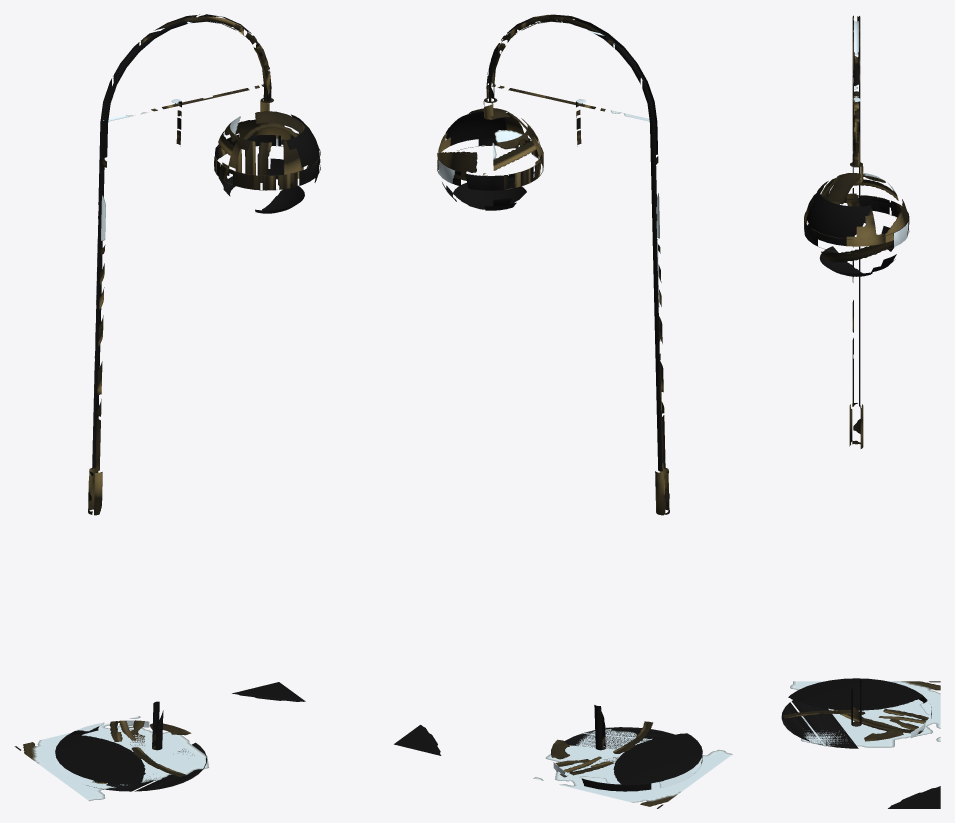
The model's file is raw_model.obj.
3 views of the same model, side by side, from view 1: azimuth 30°, elevation 25°; view 2: azimuth 150°, elevation 25°; view 3: azimuth 270°, elevation 25° (orthographic).
Visible parts, largest first — view 1: solid_001, solid_002, shadow, solid_003; view 2: solid_001, solid_002, shadow, solid_003; view 3: solid_001, solid_002, shadow, solid_003.
Boxes of the visible parts, x1=… form: solid_001: x1=88, y1=14, x2=320, y2=750; solid_002: x1=55, y1=720, x2=206, y2=791; shadow: x1=14, y1=682, x2=305, y2=801; solid_003: x1=218, y1=139, x2=319, y2=213; solid_001: x1=437, y1=14, x2=669, y2=750; solid_002: x1=551, y1=721, x2=702, y2=791; shadow: x1=394, y1=725, x2=732, y2=808; solid_003: x1=437, y1=151, x2=526, y2=210; solid_001: x1=804, y1=15, x2=909, y2=726; solid_002: x1=781, y1=678, x2=931, y2=748; shadow: x1=790, y1=681, x2=940, y2=808; solid_003: x1=819, y1=226, x2=896, y2=276.
Bounding box in the file's own units: 0.5569 × 1.47 × 0.3112.
Materials: 1 (1 with a texture image).
